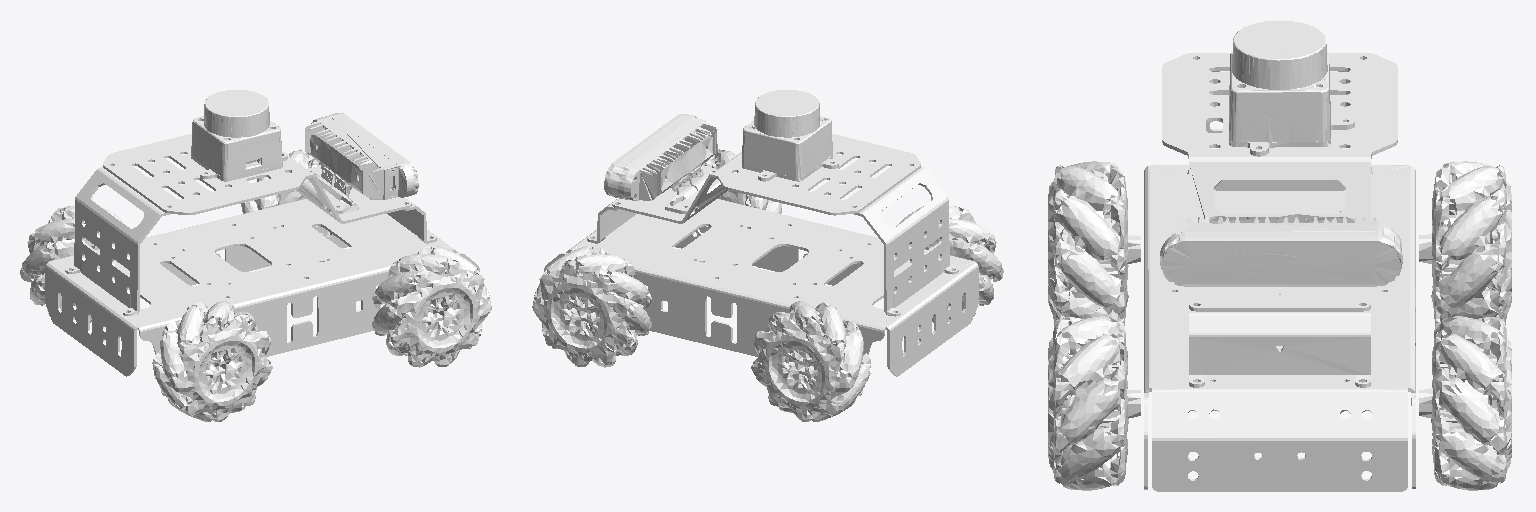
robot.urdf — mentorpi_mecanum:
<?xml version="1.0" ?>
<robot name="mentorpi_mecanum">
  <material name="black">
    <color rgba="0 0 0 1"/>
  </material>
  <link name="imu_link"/>
  <joint name="imu_joint" type="fixed">
    <parent link="base_link"/>
    <child link="imu_link"/>
    <origin xyz="0 0 0" rpy="0 0 -1.57"/>
  </joint>
  <link name="base_footprint"/>
  <joint name="base_footprint_to_base_link" type="fixed">
    <parent link="base_footprint"/>
    <child link="base_link"/>
    <origin xyz="0 0 0.07" rpy="0 0 0"/>
  </joint>
  <link name="base_link">
    <inertial>
      <origin rpy="0 0 0" xyz="7.82634169708696E-05 3.66518389137982E-05 0.0068167426737893"/>
      <mass value="0.080358044299185"/>
      <inertia ixx="9.92047502462735E-05" ixy="3.20099144678921E-08" ixz="1.15869166655817E-05" iyy="0.000292461515602123" iyz="-2.92890751882614E-08" izz="0.000367604260834833"/>
    </inertial>
    <visual>
      <origin rpy="0 0 0" xyz="0 0 0"/>
      <geometry>
        <mesh filename="meshes/mecanum/base_link.stl"/>
      </geometry>
      <material name="">
        <color rgba="1 1 1 1"/>
      </material>
    </visual>
    <collision>
      <origin rpy="0 0 0" xyz="0 0 0"/>
      <geometry>
        <mesh filename="meshes/mecanum/base_link.stl"/>
      </geometry>
    </collision>
  </link>
  <link name="wheel_lf_Link">
    <inertial>
      <origin rpy="0 0 0" xyz="6.23194347770945E-05 -0.00574614971695361 2.98597149463314E-05"/>
      <mass value="0.0378743634664218"/>
      <inertia ixx="3.67678518315829E-06" ixy="-1.42189561270372E-09" ixz="-1.20320324868622E-08" iyy="5.81008995754212E-06" iyz="1.72329758812212E-09" izz="3.67939460898329E-06"/>
    </inertial>
    <visual>
      <origin rpy="0 0 0" xyz="0 0 0"/>
      <geometry>
        <mesh filename="meshes/mecanum/wheel_lf_Link.stl"/>
      </geometry>
      <material name="">
        <color rgba="1 1 1 1"/>
      </material>
    </visual>
    <collision>
      <origin rpy="0 0 0" xyz="0 0 0"/>
      <geometry>
        <mesh filename="meshes/mecanum/wheel_lf_Link.stl"/>
      </geometry>
    </collision>
  </link>
  <joint name="wheel_lf_Joint" type="continuous">
    <origin rpy="0 0 0" xyz="0.067052 0.07591 -0.018408"/>
    <parent link="base_link"/>
    <child link="wheel_lf_Link"/>
    <axis xyz="0.00012228 1 -4.0642E-05"/>
  </joint>
  <link name="wheel_rf_Link">
    <inertial>
      <origin rpy="0 0 0" xyz="6.22118237483121E-05 0.00574626671891662 2.98167804906255E-05"/>
      <mass value="0.0378687944527435"/>
      <inertia ixx="3.67635322071944E-06" ixy="1.49075106320551E-09" ixz="-1.20440562033349E-08" iyy="5.80905053329656E-06" iyz="-1.7316728972649E-09" izz="3.67859542953002E-06"/>
    </inertial>
    <visual>
      <origin rpy="0 0 0" xyz="0 0 0"/>
      <geometry>
        <mesh filename="meshes/mecanum/wheel_rf_Link.stl"/>
      </geometry>
      <material name="">
        <color rgba="1 1 1 1"/>
      </material>
    </visual>
    <collision>
      <origin rpy="0 0 0" xyz="0 0 0"/>
      <geometry>
        <mesh filename="meshes/mecanum/wheel_rf_Link.stl"/>
      </geometry>
    </collision>
  </link>
  <joint name="wheel_rf_Joint" type="continuous">
    <origin rpy="0 0 0" xyz="0.067052 -0.07591 -0.018408"/>
    <parent link="base_link"/>
    <child link="wheel_rf_Link"/>
    <axis xyz="0.00012228 1 -4.0642E-05"/>
  </joint>
  <link name="wheel_lb_Link">
    <inertial>
      <origin rpy="0 0 0" xyz="-4.39089176767909E-05 -0.00574629427498616 3.59684108433914E-05"/>
      <mass value="0.0378689402752074"/>
      <inertia ixx="3.67629328541386E-06" ixy="1.48552620491244E-09" ixz="1.20977149812926E-08" iyy="5.80903210056483E-06" iyz="1.72555302795062E-09" izz="3.6786318488588E-06"/>
    </inertial>
    <visual>
      <origin rpy="0 0 0" xyz="0 0 0"/>
      <geometry>
        <mesh filename="meshes/mecanum/wheel_lb_Link.stl"/>
      </geometry>
      <material name="">
        <color rgba="1 1 1 1"/>
      </material>
    </visual>
    <collision>
      <origin rpy="0 0 0" xyz="0 0 0"/>
      <geometry>
        <mesh filename="meshes/mecanum/wheel_lb_Link.stl"/>
      </geometry>
    </collision>
  </link>
  <joint name="wheel_lb_Joint" type="continuous">
    <origin rpy="0 0 0" xyz="-0.06764 0.07591 -0.018414"/>
    <parent link="base_link"/>
    <child link="wheel_lb_Link"/>
    <axis xyz="0 1 0"/>
  </joint>
  <link name="wheel_rb_Link">
    <inertial>
      <origin rpy="0 0 0" xyz="-6.2256559793028E-05 0.00574614092169209 2.96857054536206E-05"/>
      <mass value="0.0378742388937267"/>
      <inertia ixx="3.67690880733038E-06" ixy="-1.42614754024296E-09" ixz="1.19925568848388E-08" iyy="5.81009054149328E-06" iyz="-1.72488948912739E-09" izz="3.67928241656151E-06"/>
    </inertial>
    <visual>
      <origin rpy="0 0 0" xyz="0 0 0"/>
      <geometry>
        <mesh filename="meshes/mecanum/wheel_rb_Link.stl"/>
      </geometry>
      <material name="">
        <color rgba="1 1 1 1"/>
      </material>
    </visual>
    <collision>
      <origin rpy="0 0 0" xyz="0 0 0"/>
      <geometry>
        <mesh filename="meshes/mecanum/wheel_rb_Link.stl"/>
      </geometry>
    </collision>
  </link>
  <joint name="wheel_rb_Joint" type="continuous">
    <origin rpy="0 0 0" xyz="-0.067621 -0.07591 -0.018408"/>
    <parent link="base_link"/>
    <child link="wheel_rb_Link"/>
    <axis xyz="0 1 0"/>
  </joint>
  <link name="depth_cam">
    <inertial>
      <origin rpy="0 0 0" xyz="0.0023402290706885 0.00113784597175737 -0.010212706399263"/>
      <mass value="0.0270474748712619"/>
      <inertia ixx="1.43718505980935E-05" ixy="1.24779390700312E-07" ixz="1.29836475580818E-08" iyy="1.65912768335363E-06" iyz="2.28291474116005E-08" izz="1.45615925671284E-05"/>
    </inertial>
    <visual>
      <origin rpy="0 0 0" xyz="0 0 0"/>
      <geometry>
        <mesh filename="meshes/mecanum/cam_Link.stl"/>
      </geometry>
      <material name="">
        <color rgba="1 1 1 1"/>
      </material>
    </visual>
    <collision>
      <origin rpy="0 0 0" xyz="0 0 0"/>
      <geometry>
        <mesh filename="meshes/mecanum/cam_Link.stl"/>
      </geometry>
    </collision>
  </link>
  <joint name="cam_Joint" type="fixed">
    <origin rpy="0 0 0" xyz="0.061376 -0.00013463 0.051154"/>
    <parent link="base_link"/>
    <child link="depth_cam"/>
    <axis xyz="0 0 0"/>
  </joint>
  <link name="lidar_frame">
    <inertial>
      <origin rpy="0 0 0" xyz="8.65086404290248E-05 9.02624664517182E-05 -0.0183546134707293"/>
      <mass value="0.0405423044439003"/>
      <inertia ixx="4.98470777040832E-06" ixy="-1.5407626531037E-07" ixz="2.05182756187779E-09" iyy="5.03926730954594E-06" iyz="1.10062857837226E-08" izz="8.25645669795306E-06"/>
    </inertial>
    <visual>
      <origin rpy="0 0 0" xyz="0 0 0"/>
      <geometry>
        <mesh filename="meshes/mecanum/lidar_Link.stl"/>
      </geometry>
      <material name="">
        <color rgba="1 1 1 1"/>
      </material>
    </visual>
    <collision>
      <origin rpy="0 0 0" xyz="0 0 0"/>
      <geometry>
        <mesh filename="meshes/mecanum/lidar_Link.stl"/>
      </geometry>
    </collision>
  </link>
  <joint name="lidar_Joint" type="fixed">
    <origin rpy="0 0 0" xyz="-0.012242 -8.533E-05 0.092501"/>
    <parent link="base_link"/>
    <child link="lidar_frame"/>
    <axis xyz="0 0 0"/>
  </joint>
</robot>

--- What the picture shows (computed from the rendered views, not written in the file) ---
Views: 3 orthographic renders of the robot side by side, from view 1: azimuth 30°, elevation 25°; view 2: azimuth 150°, elevation 25°; view 3: azimuth 270°, elevation 25°.
Robot: mentorpi_mecanum — 9 links, 8 joints (4 continuous, 4 fixed); root link base_footprint; default pose: all joints at 0.
Links seen in each view (by area): view 1: base_link, wheel_rf_Link, wheel_rb_Link, depth_cam, lidar_frame, wheel_lb_Link, wheel_lf_Link; view 2: base_link, wheel_lf_Link, wheel_lb_Link, depth_cam, lidar_frame, wheel_rb_Link, wheel_rf_Link; view 3: base_link, depth_cam, wheel_lf_Link, wheel_rf_Link, lidar_frame, wheel_lb_Link, wheel_rb_Link.
Boxes of the visible links, x1,y1,x2,y2 form: base_link: [45, 134, 479, 376]; wheel_rf_Link: [372, 246, 491, 367]; wheel_rb_Link: [152, 301, 272, 421]; depth_cam: [304, 113, 418, 213]; lidar_frame: [191, 90, 287, 181]; wheel_lb_Link: [20, 206, 129, 322]; wheel_lf_Link: [241, 149, 329, 235]; base_link: [544, 134, 978, 376]; wheel_lf_Link: [532, 246, 651, 367]; wheel_lb_Link: [751, 301, 870, 421]; depth_cam: [604, 114, 719, 213]; lidar_frame: [742, 90, 838, 181]; wheel_rb_Link: [896, 206, 1003, 322]; wheel_rf_Link: [694, 149, 782, 235]; base_link: [1144, 53, 1415, 491]; depth_cam: [1160, 214, 1402, 286]; wheel_lf_Link: [1419, 316, 1511, 490]; wheel_rf_Link: [1048, 316, 1140, 490]; lidar_frame: [1229, 20, 1354, 156]; wheel_lb_Link: [1419, 161, 1511, 325]; wheel_rb_Link: [1048, 161, 1140, 325].
Bounding box of the posed robot: 0.2119 × 0.1714 × 0.1431 m (x, y, z).
Meshes: 7 distinct files referenced, 7 mesh visuals loaded (7 binary STL).
